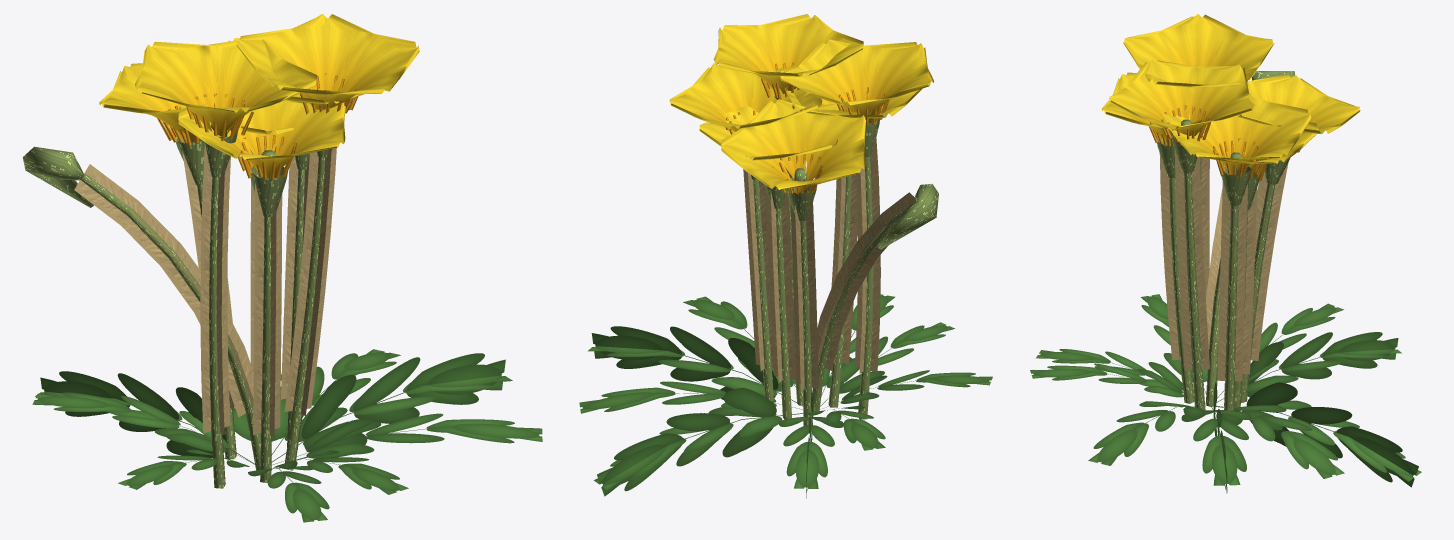
Rendered from arctic_poppy_v01.fbx.
3 views of the same model, side by side, from view 1: azimuth 30°, elevation 25°; view 2: azimuth 150°, elevation 25°; view 3: azimuth 270°, elevation 25° (orthographic). The views are drawn at different scales.
Visible parts, largest first — view 1: arctic_poppy_v01; view 2: arctic_poppy_v01; view 3: arctic_poppy_v01.
Part boxes in pixels (x1,y1,x2,y2): arctic_poppy_v01: (22,14,542,522); arctic_poppy_v01: (579,14,992,498); arctic_poppy_v01: (1030,14,1421,493).
Size of the model in its own units: 15.94 by 15.65 by 16.8.
Materials: 5 (5 with a texture image).
